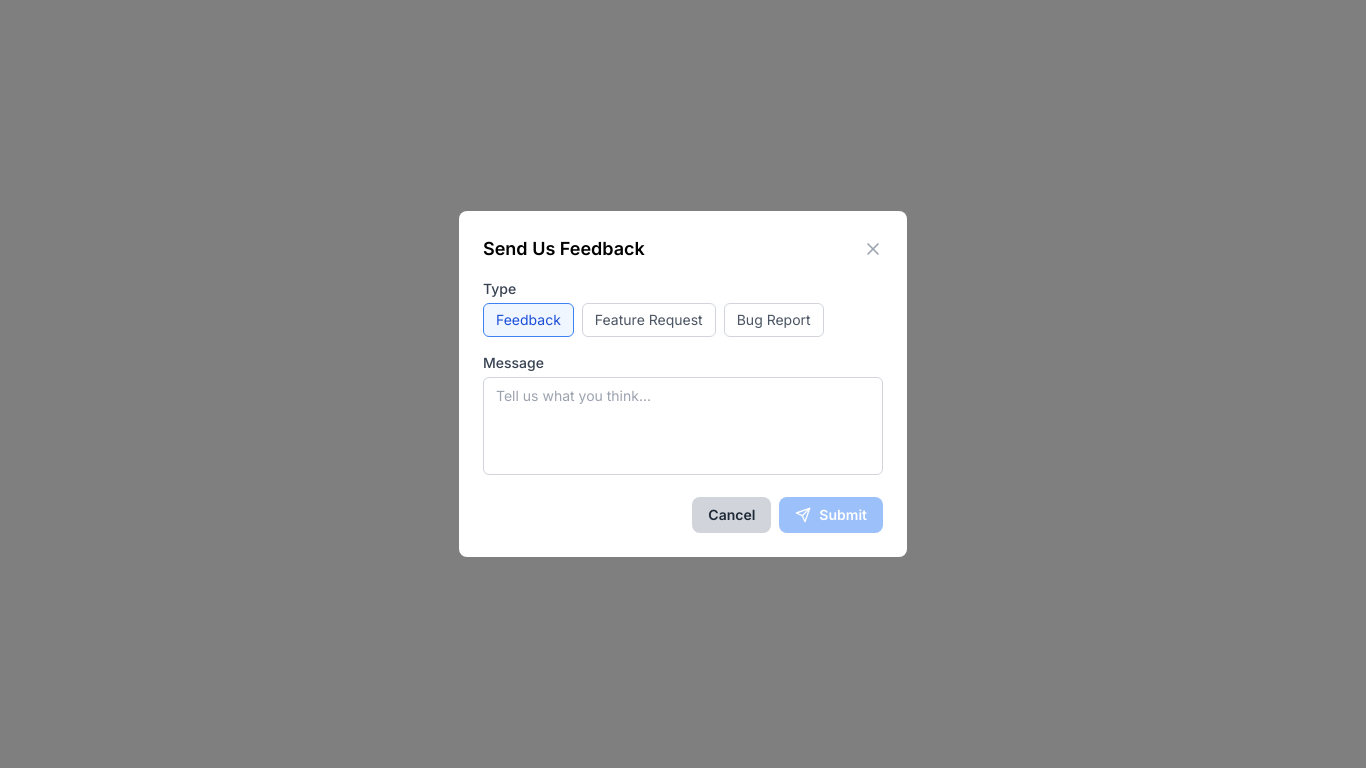
Scenario: FeedbackModal › sends the feedback under the feedback survey
The width and height of the screenshot is (1366, 768).
Type "Please add a bell sound" into the text box with placeholder "Tell us what you think..." at (683, 426), box [483,377,883,475]
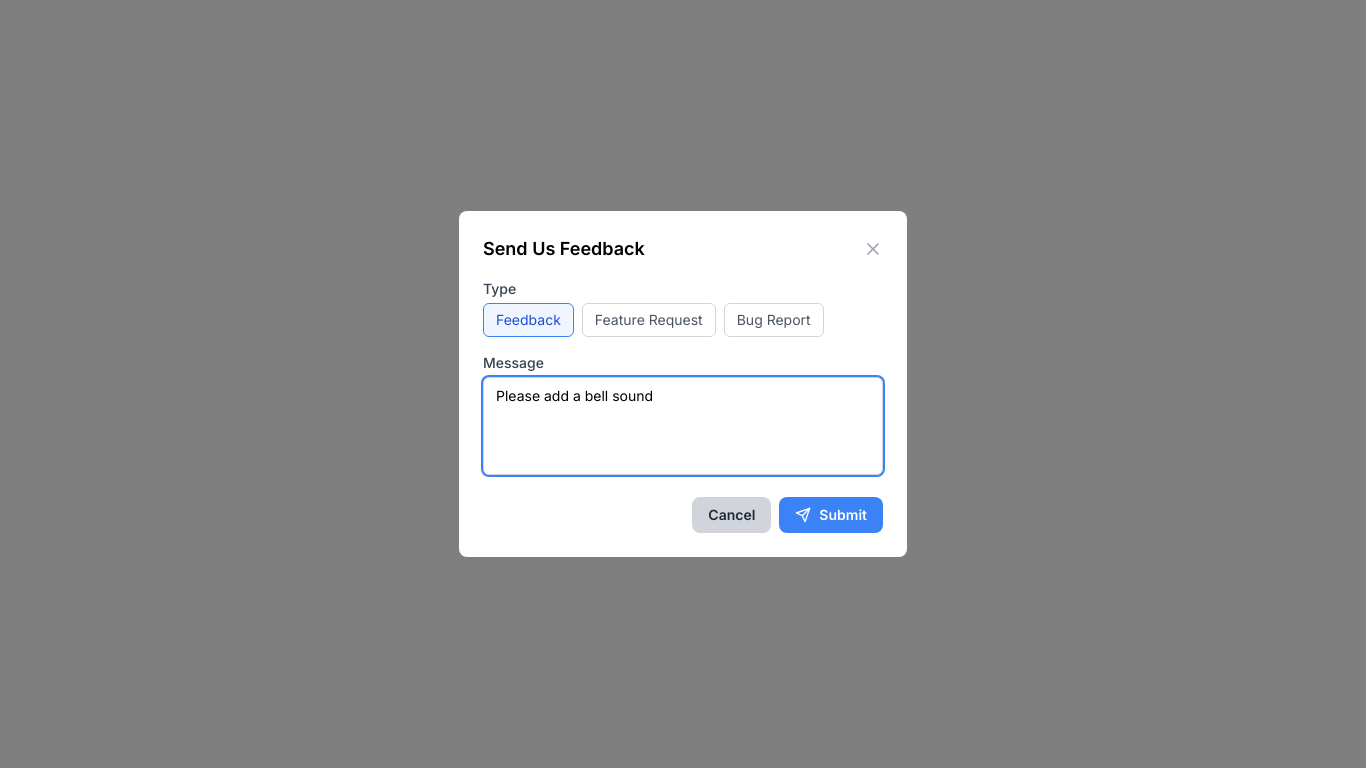
Click the button "Submit" at (831, 515), box [779,497,883,533]
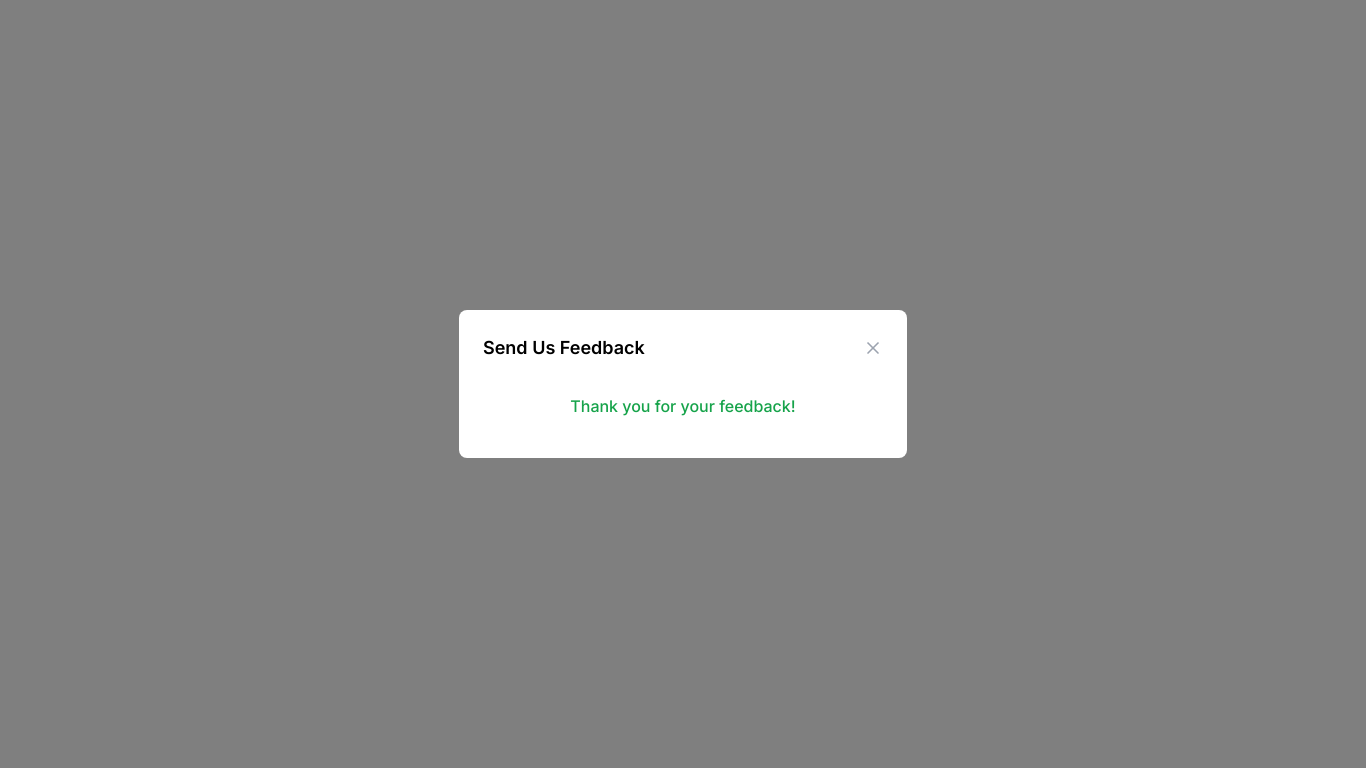
Now the text "Thank you for your feedback!" is shown, box [570,396,796,416]
